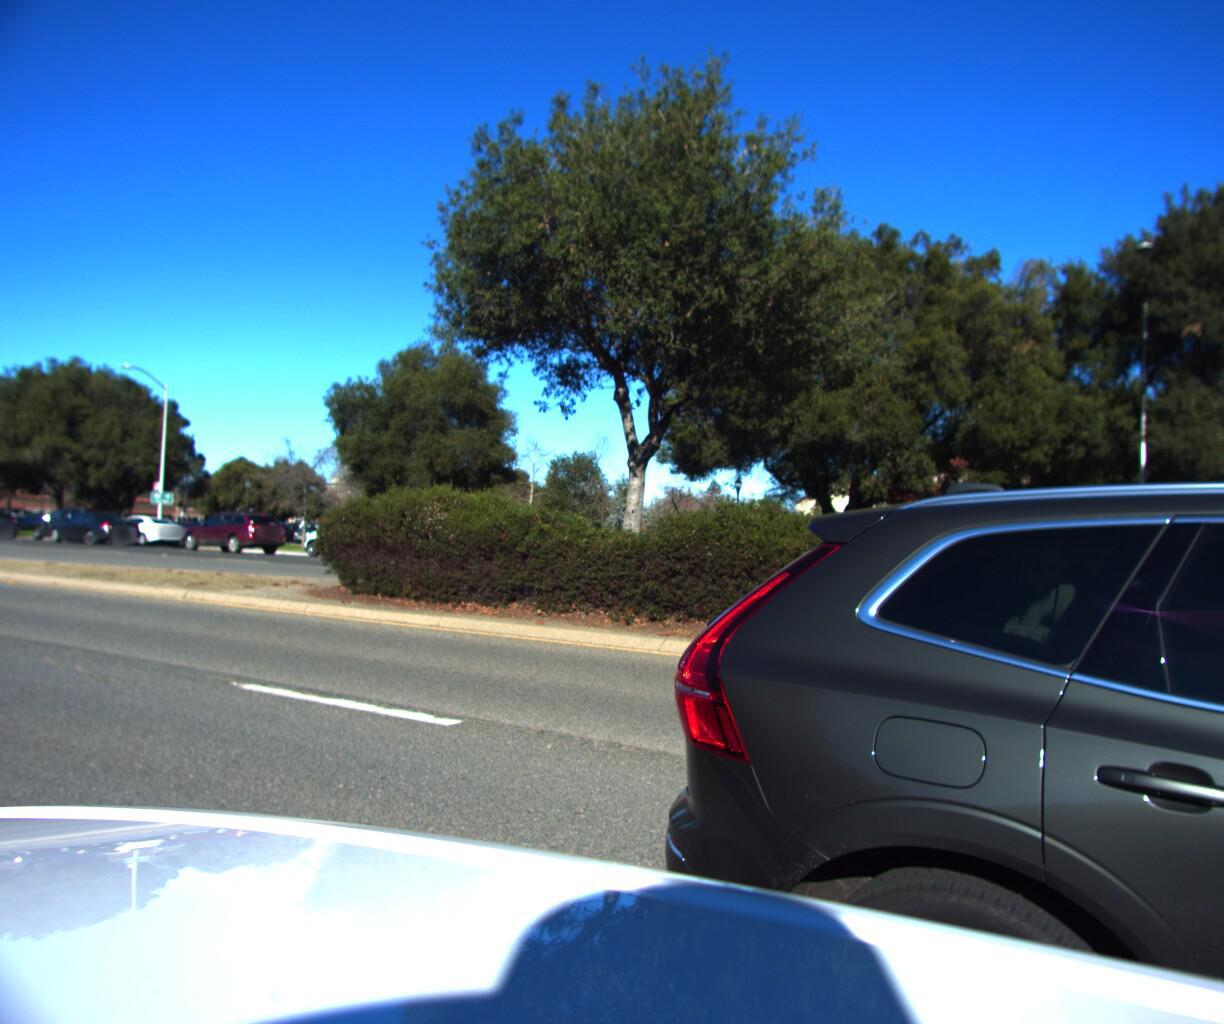car: (556, 0, 1224, 1024), (171, 508, 293, 559), (285, 517, 403, 566), (39, 513, 146, 551), (94, 517, 190, 552), (30, 510, 114, 546), (0, 511, 22, 543)
